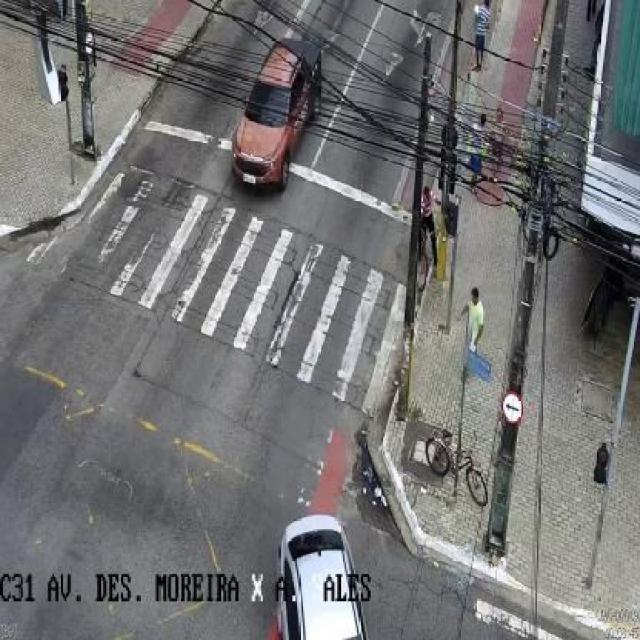Car: (227, 39, 327, 198), (271, 511, 372, 640)
Cycle: (424, 429, 492, 508)
